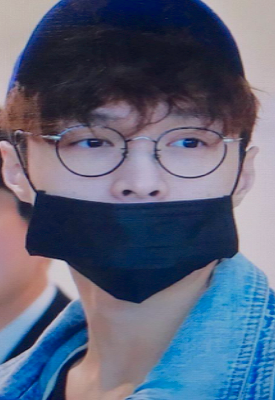mask_weared_incorrect: (22, 107, 240, 304)
